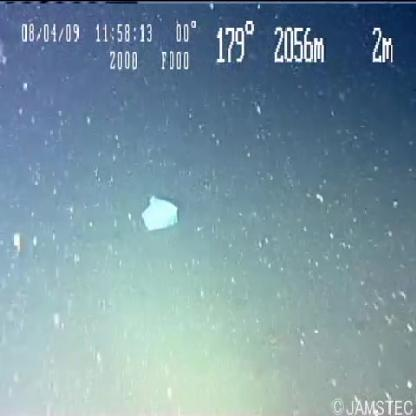Rác: (123, 182, 203, 242)
